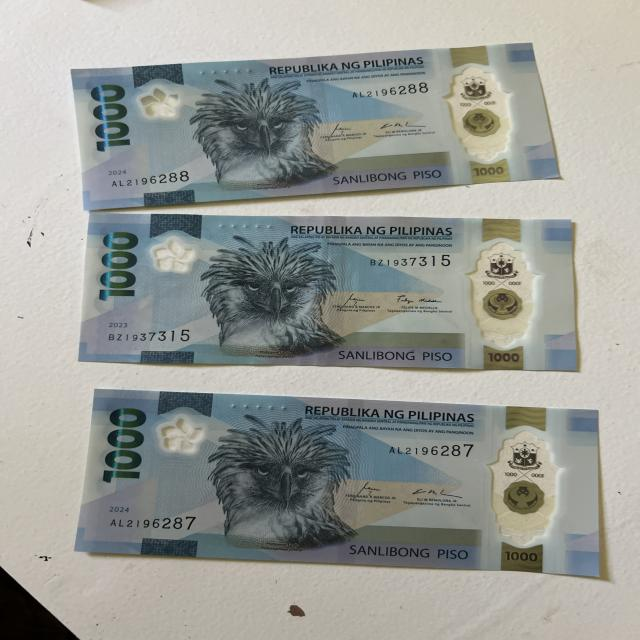clear_window: (478, 418, 580, 557), (464, 238, 544, 353), (443, 62, 521, 168)
eagle: (211, 418, 356, 549), (209, 237, 344, 353), (192, 81, 324, 181)
sampaguita: (155, 422, 206, 457), (153, 236, 199, 274), (142, 88, 180, 120)
serial_number: (381, 440, 485, 467), (97, 510, 202, 534), (364, 252, 459, 277), (98, 324, 197, 345), (347, 82, 440, 103)
value: (99, 398, 152, 489), (95, 230, 140, 308), (84, 80, 134, 148)
